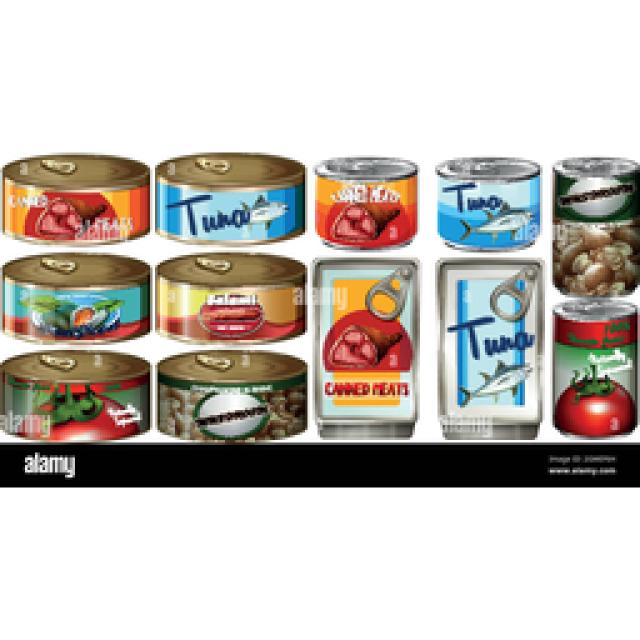alumunium: (155, 252, 418, 438), (550, 158, 638, 432), (438, 260, 538, 438), (155, 152, 302, 240), (2, 350, 148, 438), (2, 252, 148, 340), (2, 155, 148, 240), (315, 158, 418, 248), (435, 158, 538, 248)
